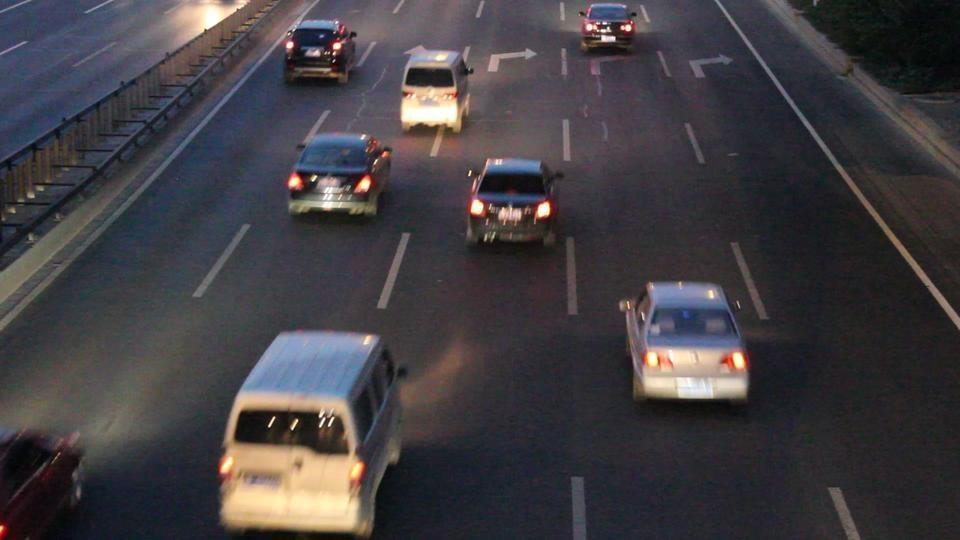car: (217, 328, 408, 538), (620, 280, 752, 409), (0, 425, 88, 538), (285, 131, 393, 219), (462, 156, 565, 247), (400, 47, 474, 134), (282, 18, 357, 85), (579, 2, 639, 52)
